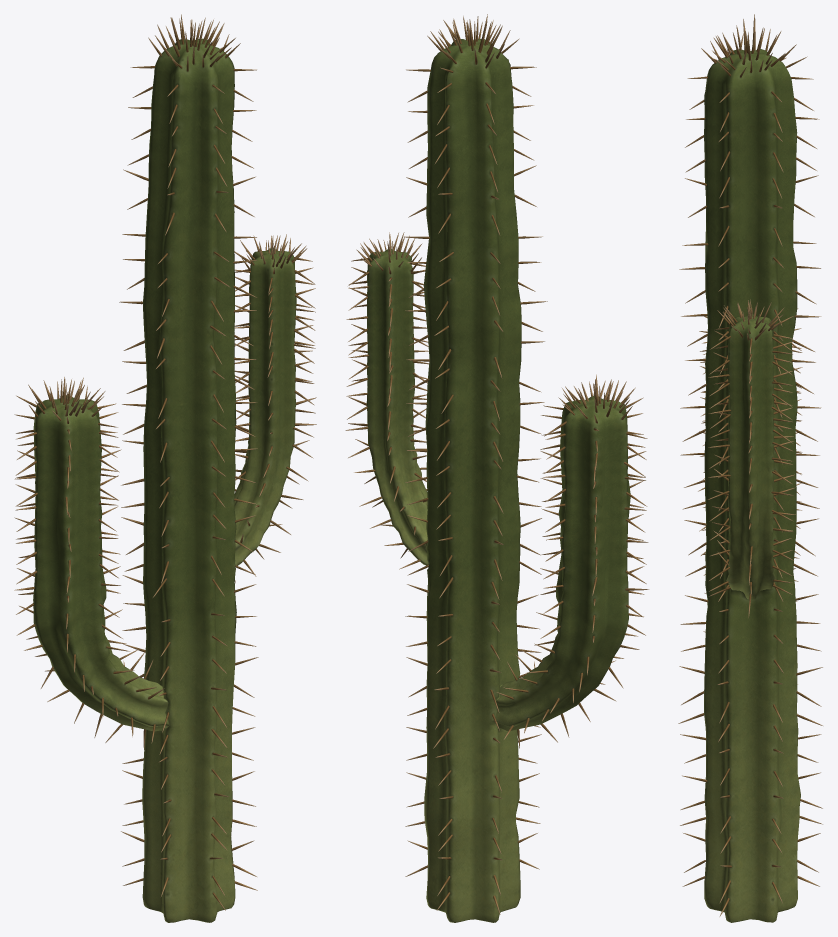
File: cactus.obj
3 views of the same model, side by side, from view 1: azimuth 30°, elevation 25°; view 2: azimuth 150°, elevation 25°; view 3: azimuth 270°, elevation 25° (orthographic).
Parts seen in each view (by area): view 1: obj1; view 2: obj1; view 3: obj1.
Boxes of the visible parts, left/top/right/bottom form: obj1: left=14, top=14, right=316, bottom=922; obj1: left=345, top=14, right=649, bottom=922; obj1: left=678, top=14, right=822, bottom=922.
Size of the model in its own units: 0.0244 by 0.0687 by 0.0102.
